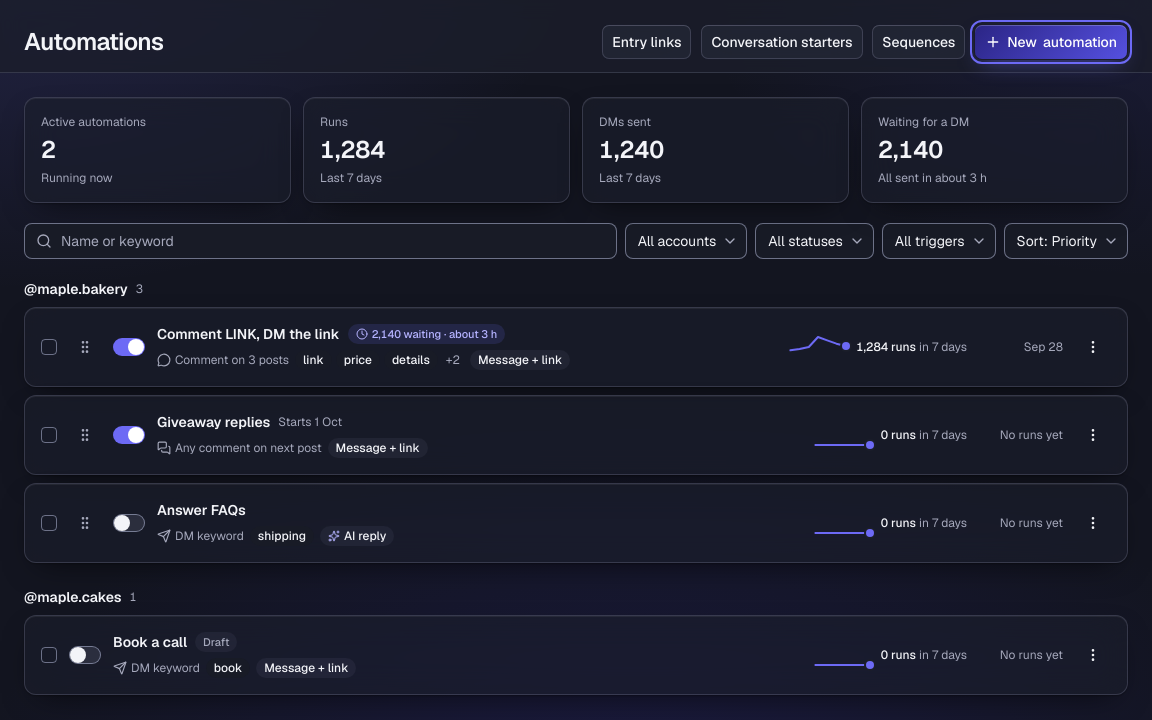
Test: AutomationsPage (UX-SCR-02) › New automation opens the gallery; Esc puts focus back on it, and the next opening starts fresh
Expected: the link "Comment LINK, DM the link" is shown, [157,324,340,344]
Press Enter
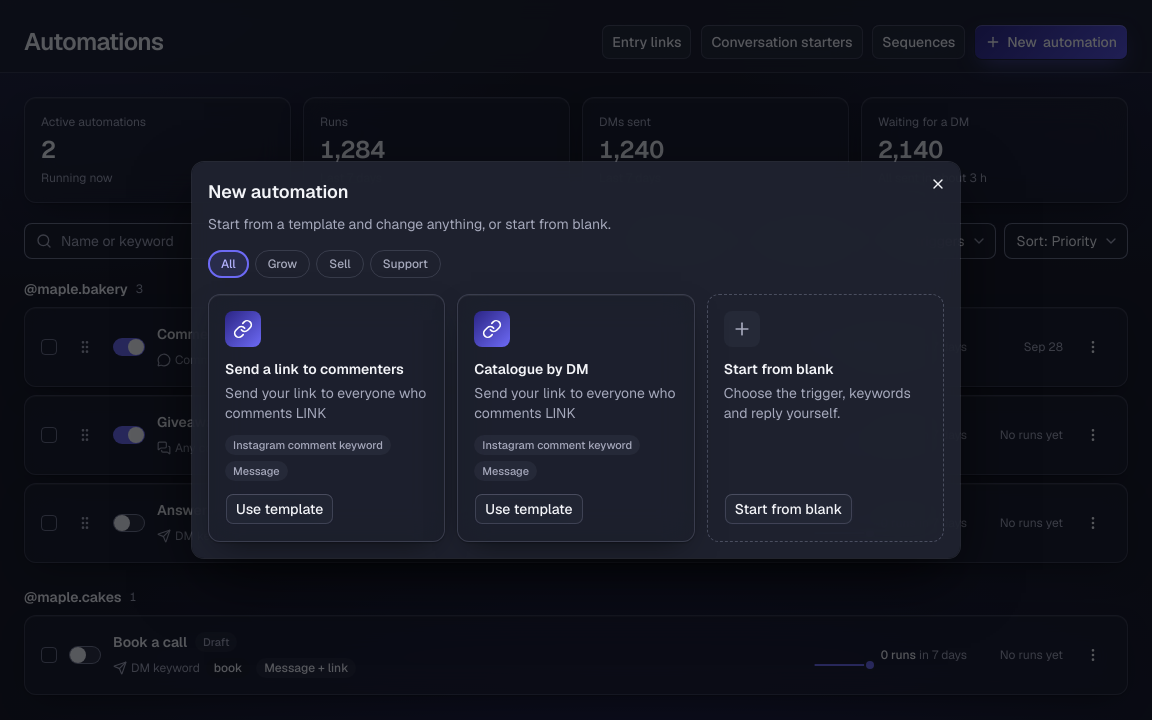
Click the radio button labelled "Grow". click: point(282, 264)
box: [255,250,310,278]
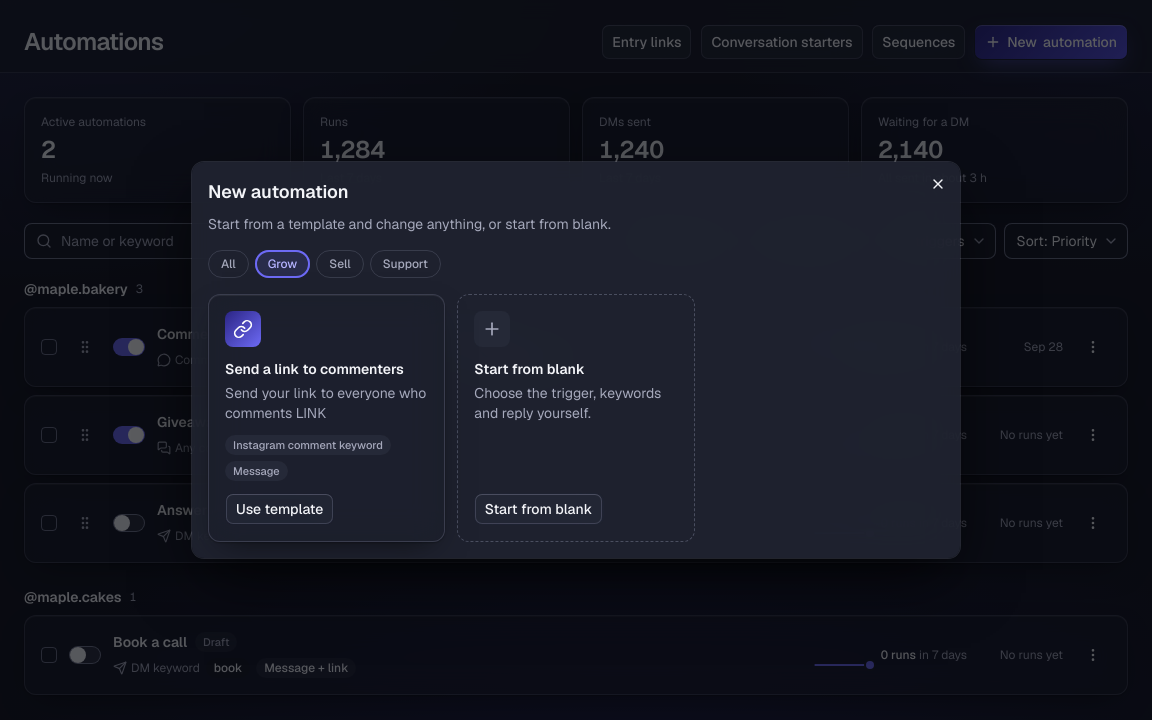
Press Escape
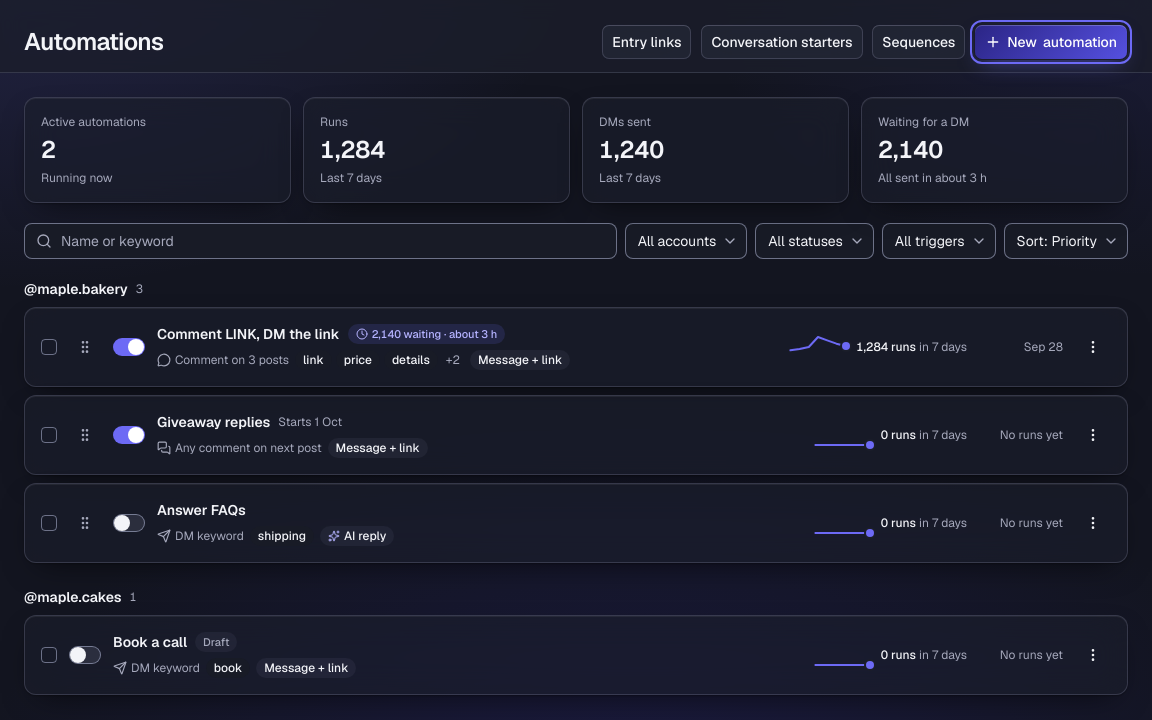
Now the dialog is gone
Click the button "New automation". click: point(1051, 42)
box: [974,24,1128,60]
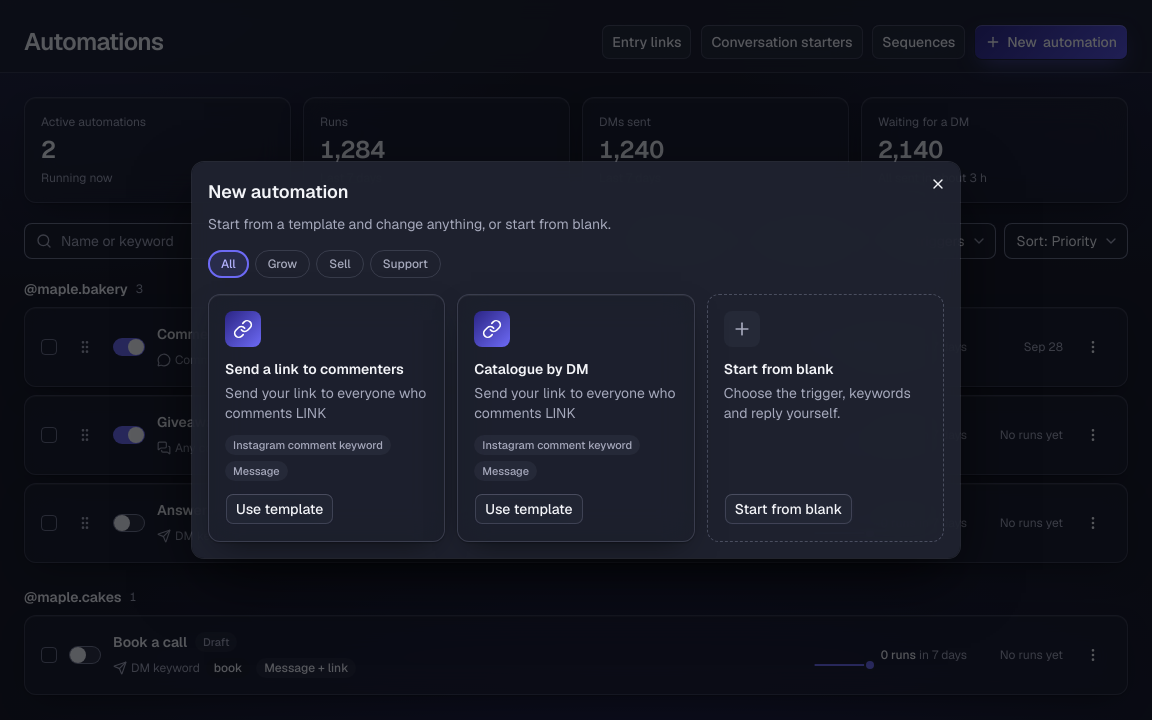
Now the radio button labelled "All" is checked, box [208,250,249,278]
